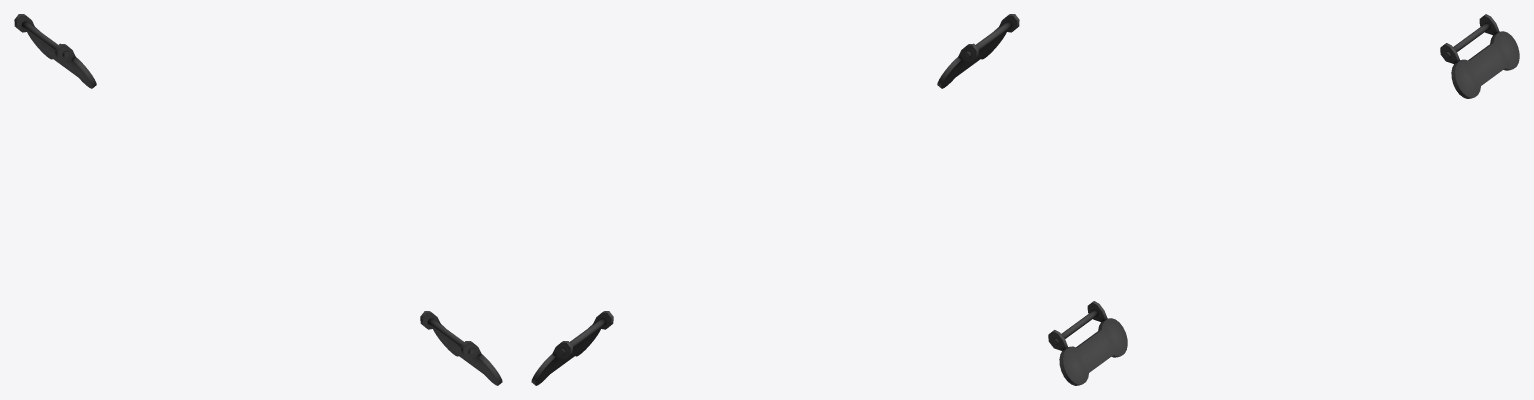
The model's file is rear_hazcam_cover_link.dae.
3 views of the same model, side by side, from view 1: azimuth 30°, elevation 25°; view 2: azimuth 150°, elevation 25°; view 3: azimuth 330°, elevation 25° (orthographic). The views are drawn at different scales.
Visible parts, largest first — view 1: rear_hazcam_cover_link; view 2: rear_hazcam_cover_link; view 3: rear_hazcam_cover_link.
Part boxes in pixels (x1=…): rear_hazcam_cover_link: x1=14, y1=14, x2=502, y2=385; rear_hazcam_cover_link: x1=531, y1=14, x2=1019, y2=385; rear_hazcam_cover_link: x1=1048, y1=14, x2=1519, y2=385.
Bounding box in the file's own units: 0.0515 × 1.15 × 0.0672.
Materials: 1 (1 with a texture image).
